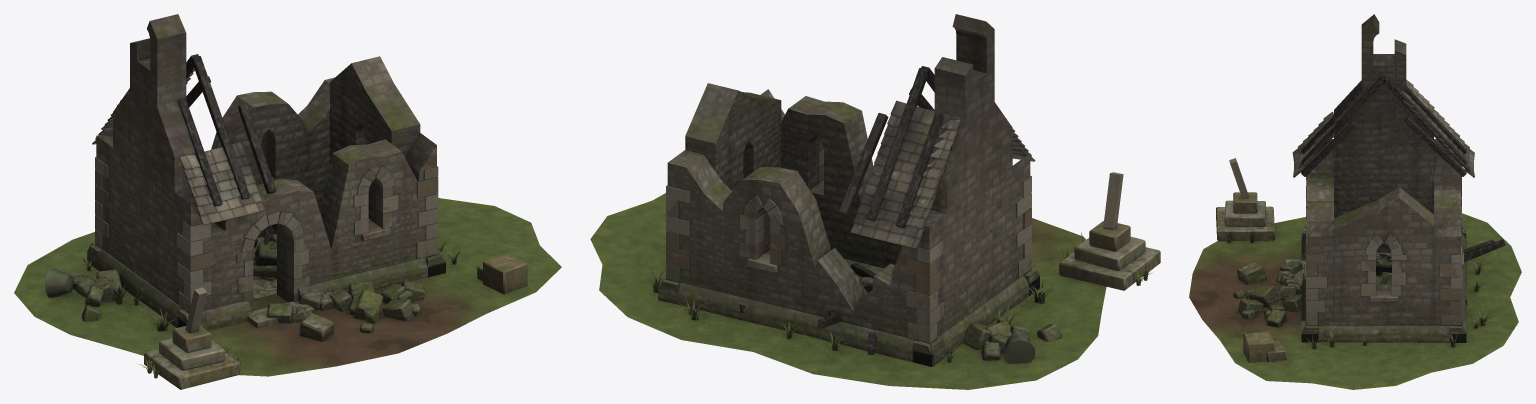
Rendered from chapel_ruin.glb.
3 views of the same model, side by side, from view 1: azimuth 30°, elevation 25°; view 2: azimuth 150°, elevation 25°; view 3: azimuth 270°, elevation 25° (orthographic). The views are drawn at different scales.
Visible parts, largest first — view 1: chapel_ruin_LOD0; view 2: chapel_ruin_LOD0; view 3: chapel_ruin_LOD0.
Part boxes in pixels (x1,y1,x2,y2): chapel_ruin_LOD0: [14, 14, 561, 389]; chapel_ruin_LOD0: [590, 14, 1160, 389]; chapel_ruin_LOD0: [1189, 14, 1521, 389].
Size of what is drawn, in the model's own units: 11.45 by 6.77 by 8.65.
Materials: 1 (1 with a texture image).
